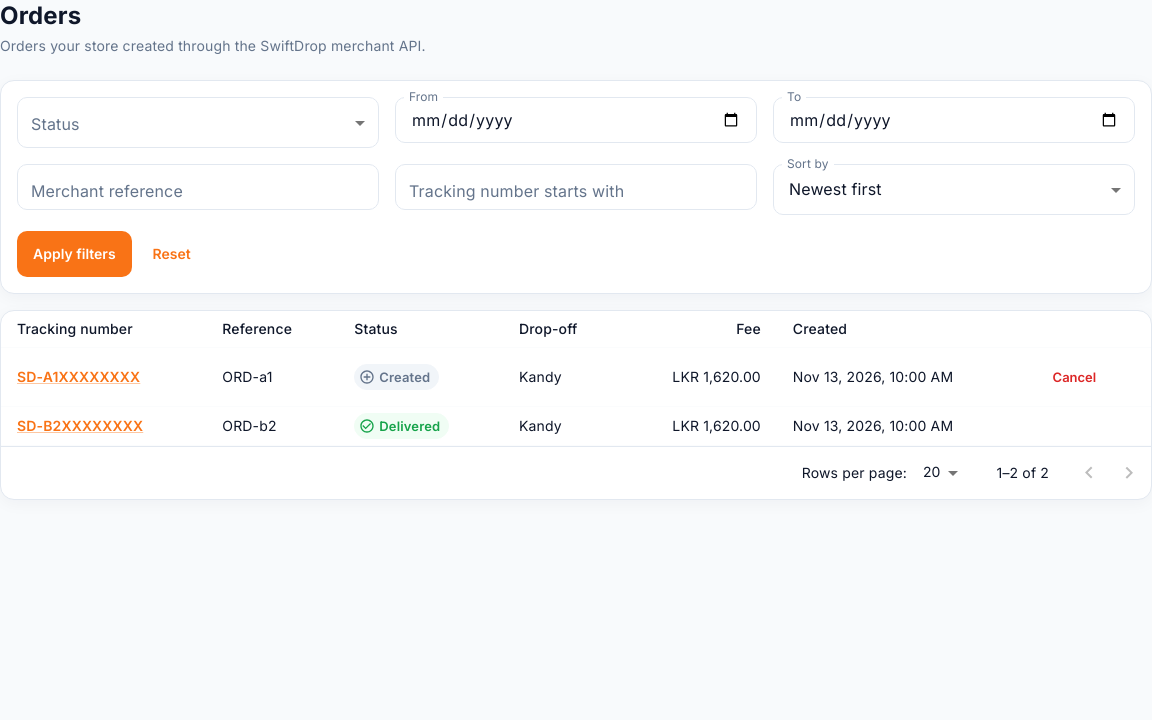
Test: TST-040 merchant orders list (Member #6, FR-PAR-008) › keeps the order when the dialog is dismissed
Expected: the table named "Orders" is shown, top-left (1, 311), bottom-right (1151, 446)
Click the button "Cancel".
click(1074, 377)  # box top-left (1042, 354), bottom-right (1106, 400)
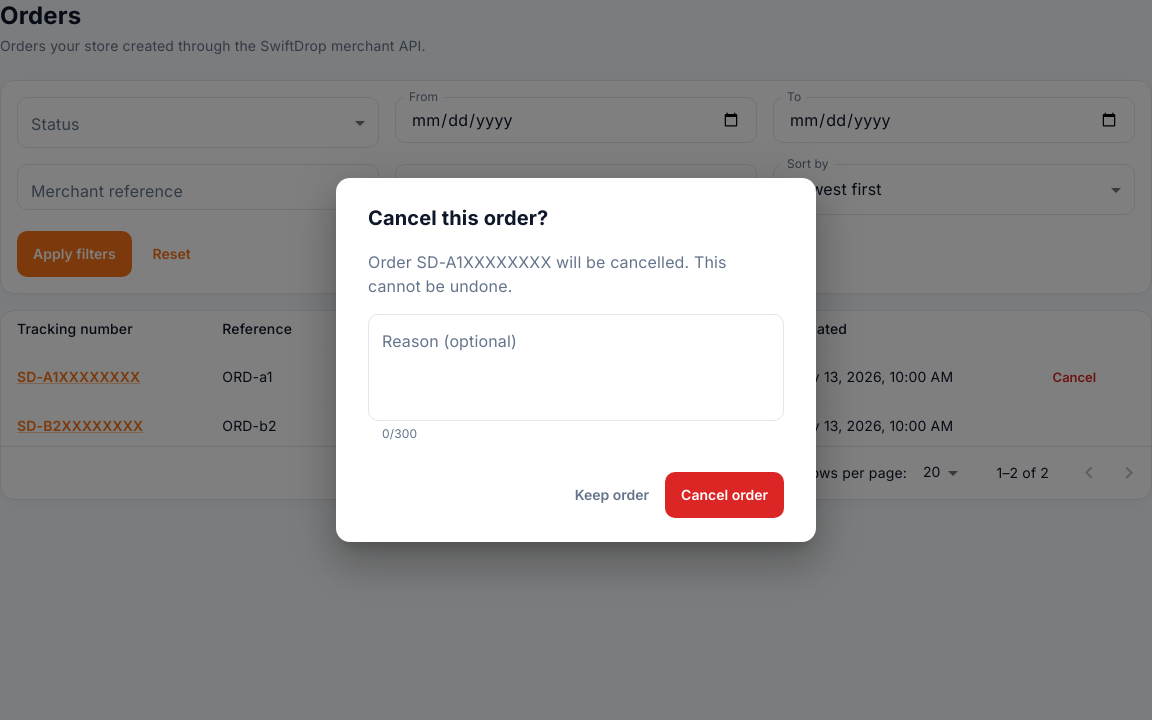
Click the button "Keep order".
click(612, 495)  # box top-left (567, 472), bottom-right (657, 518)
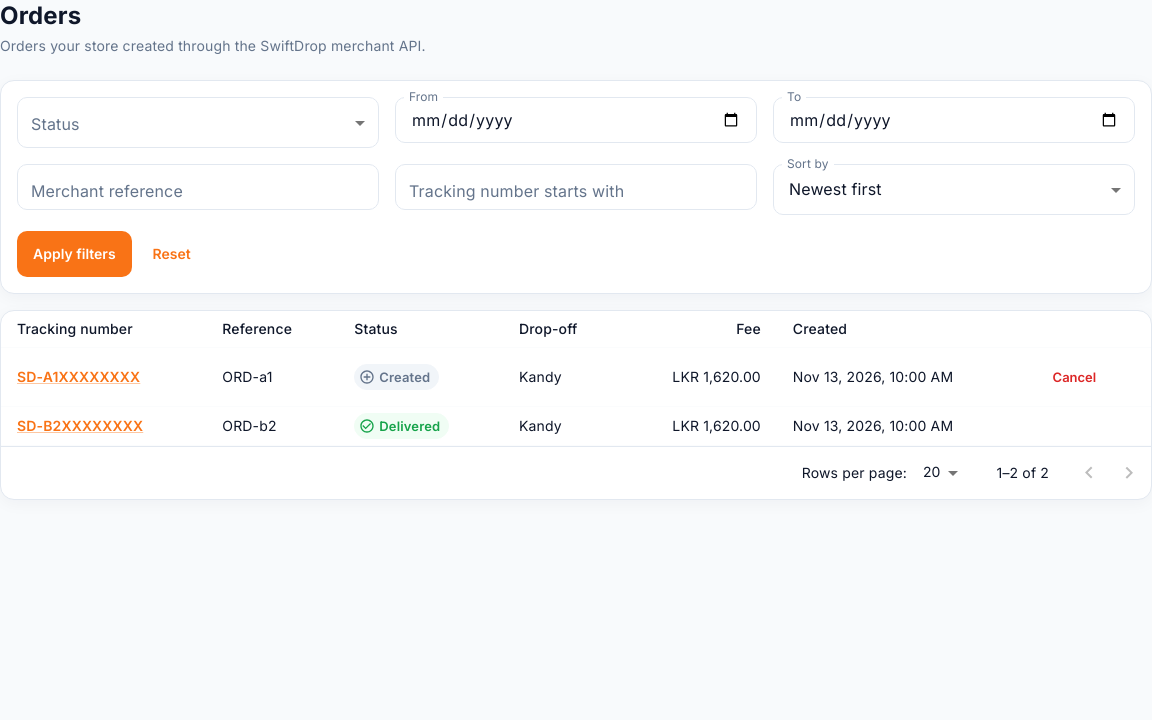
Expected: the dialog is gone
